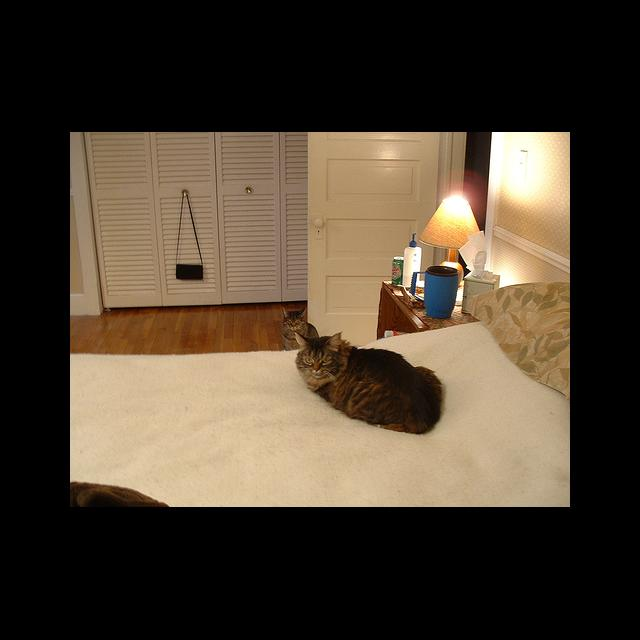animals: (295, 332, 339, 370)
